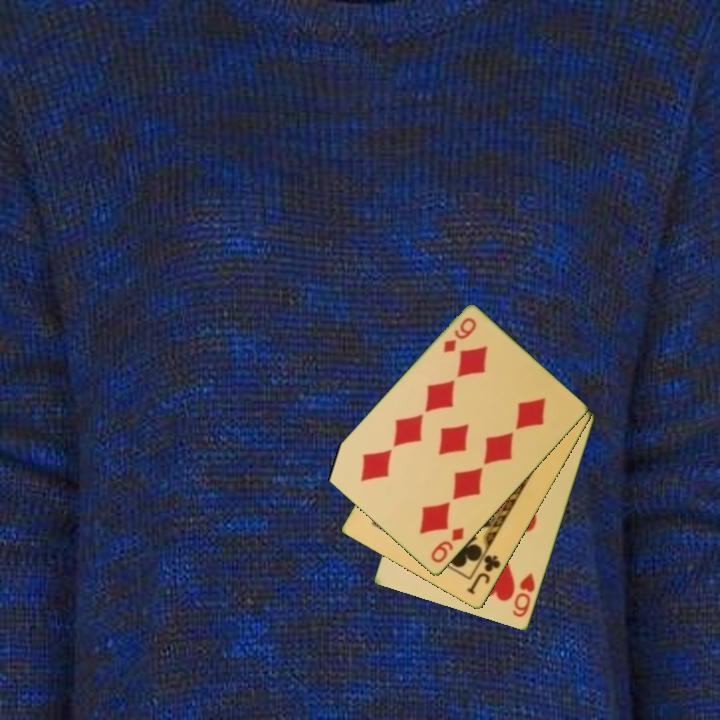6h: (509, 569, 538, 620)
9d: (427, 524, 467, 567), (439, 314, 479, 356)
Jc: (463, 551, 504, 598)
